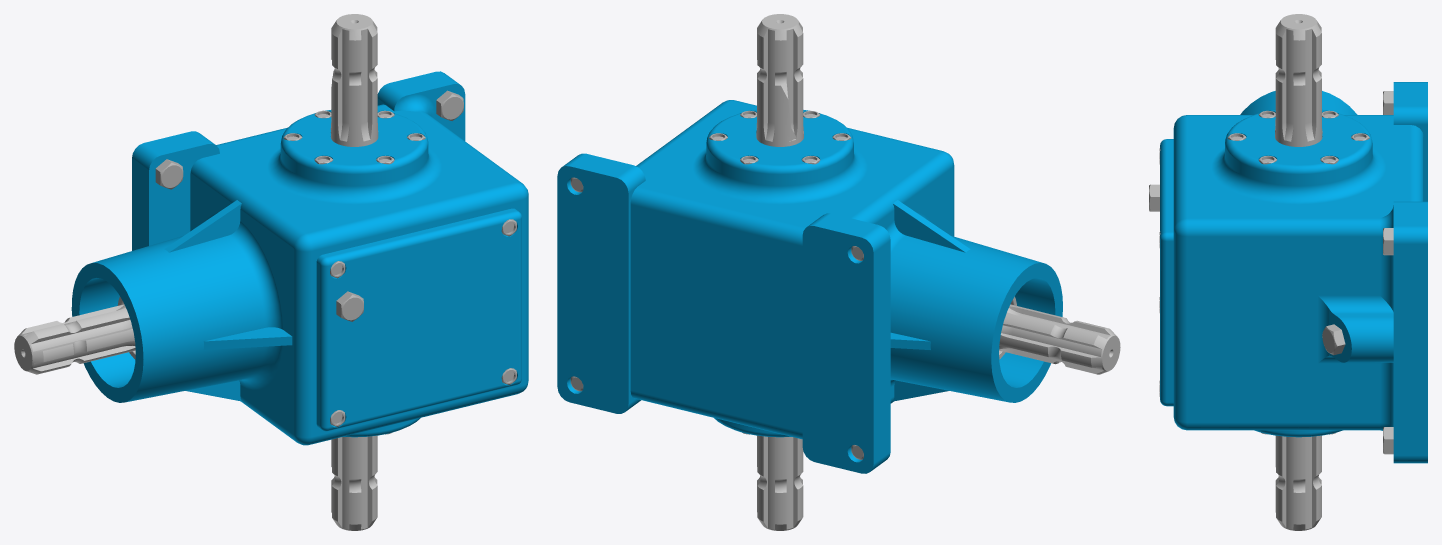
The model's file is razrez.gltf.
3 views of the same model, side by side, from view 1: azimuth 30°, elevation 25°; view 2: azimuth 150°, elevation 25°; view 3: azimuth 270°, elevation 25° (orthographic).
Parts seen in each view (by area): view 1: Оболочка (×10); view 2: Оболочка (×5); view 3: Оболочка (×7).
Boxes of the visible parts, left/top/right/bottom form: Оболочка (×10): left=14, top=14, right=528, bottom=530; Оболочка (×5): left=557, top=14, right=1120, bottom=530; Оболочка (×7): left=1160, top=14, right=1427, bottom=530.
Size of the model in its own units: 413 by 405 by 204.
